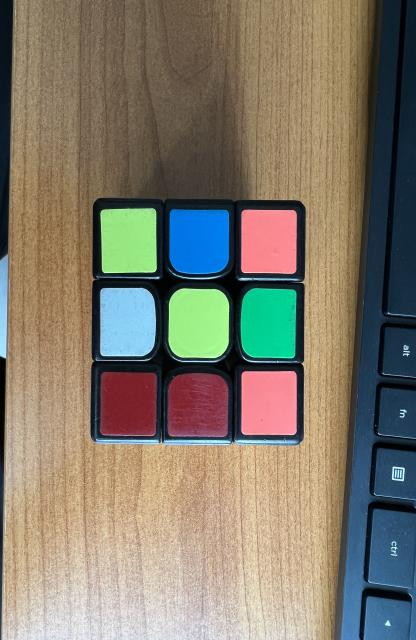Blue: (169, 209, 230, 274)
Green: (240, 289, 297, 359)
Orange: (240, 209, 297, 274), (242, 371, 297, 435)
Red: (168, 372, 229, 436), (101, 371, 157, 436)
White: (100, 288, 156, 356)
Yellow: (168, 289, 230, 359), (101, 209, 157, 274)
